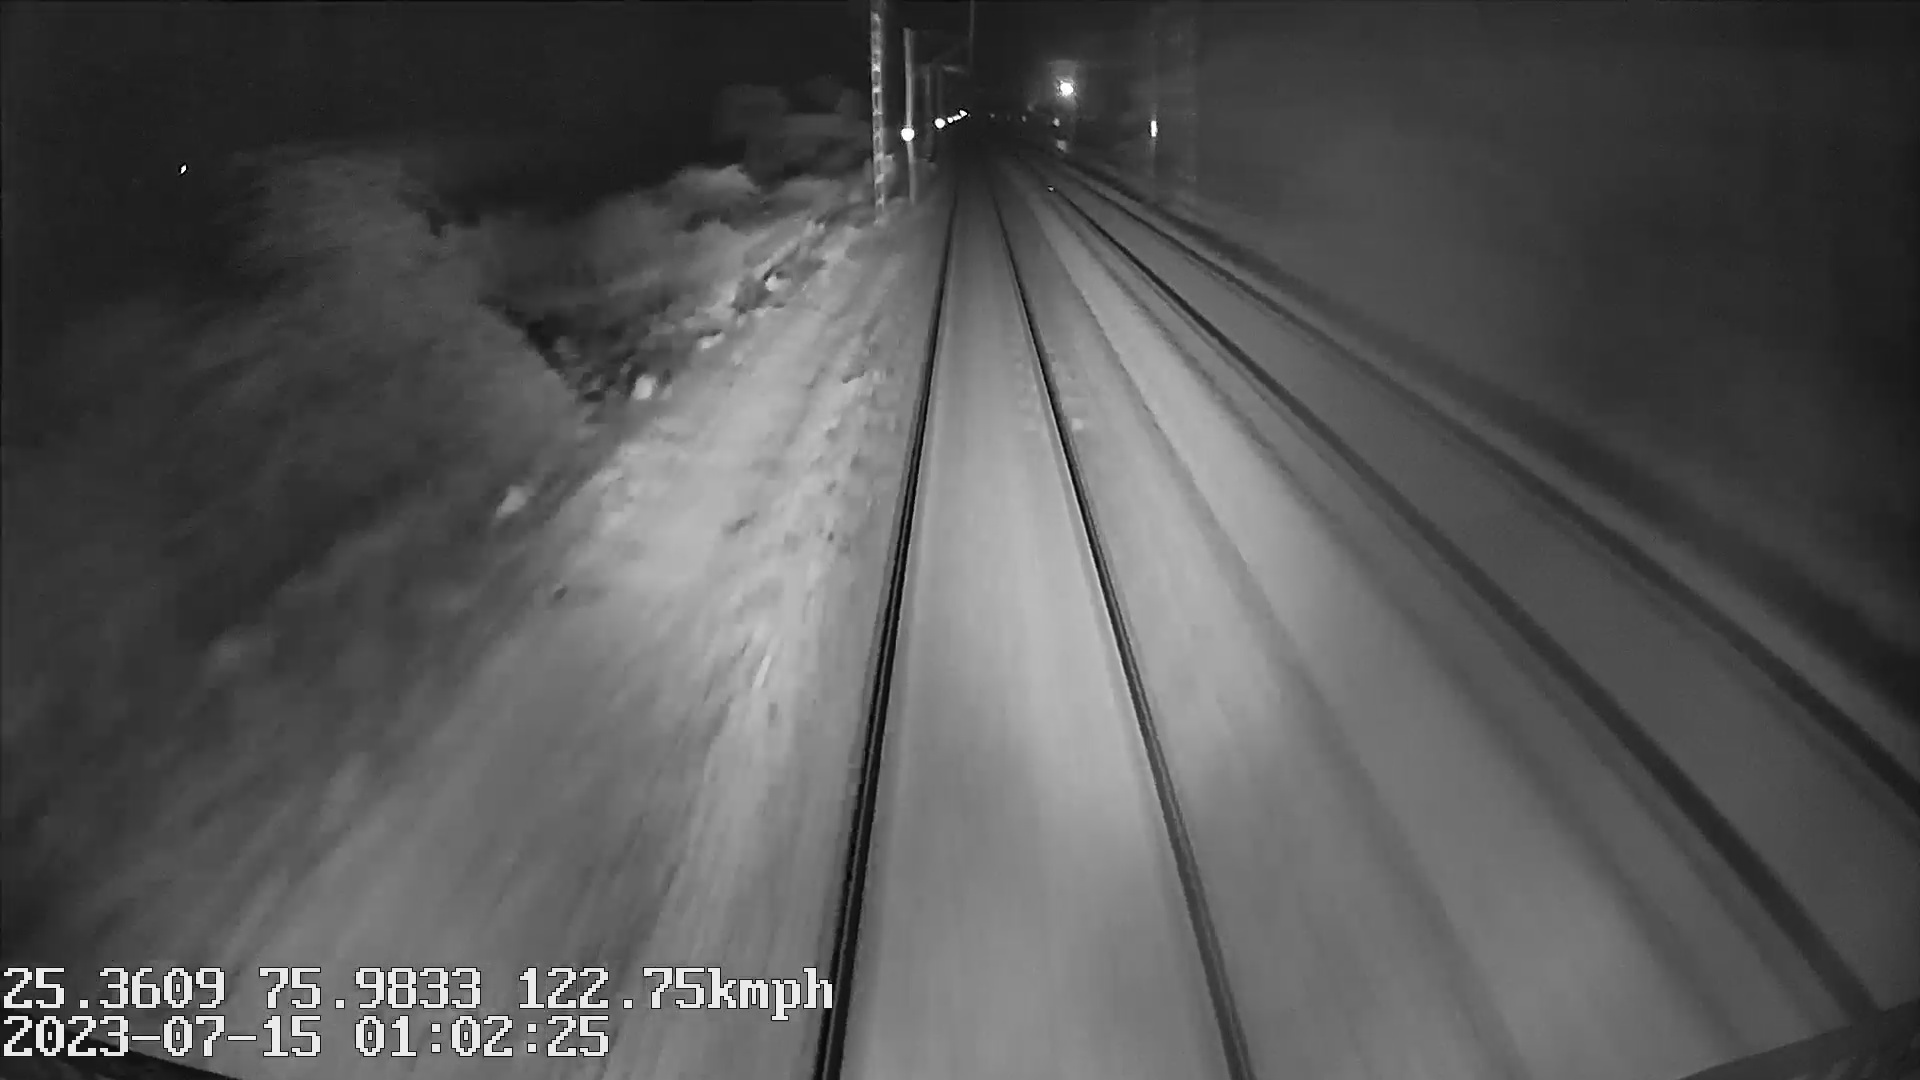track1: (832, 182, 1244, 1056)
track2: (1058, 185, 1905, 973)
